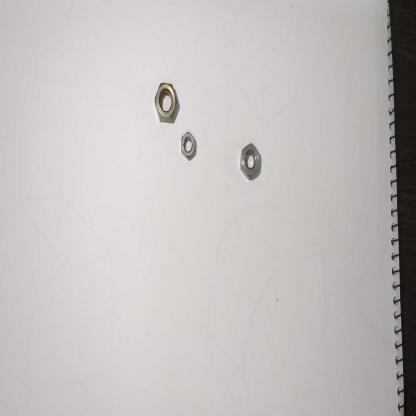NUTS: (238, 139, 267, 185), (153, 77, 181, 122), (178, 131, 201, 161)
